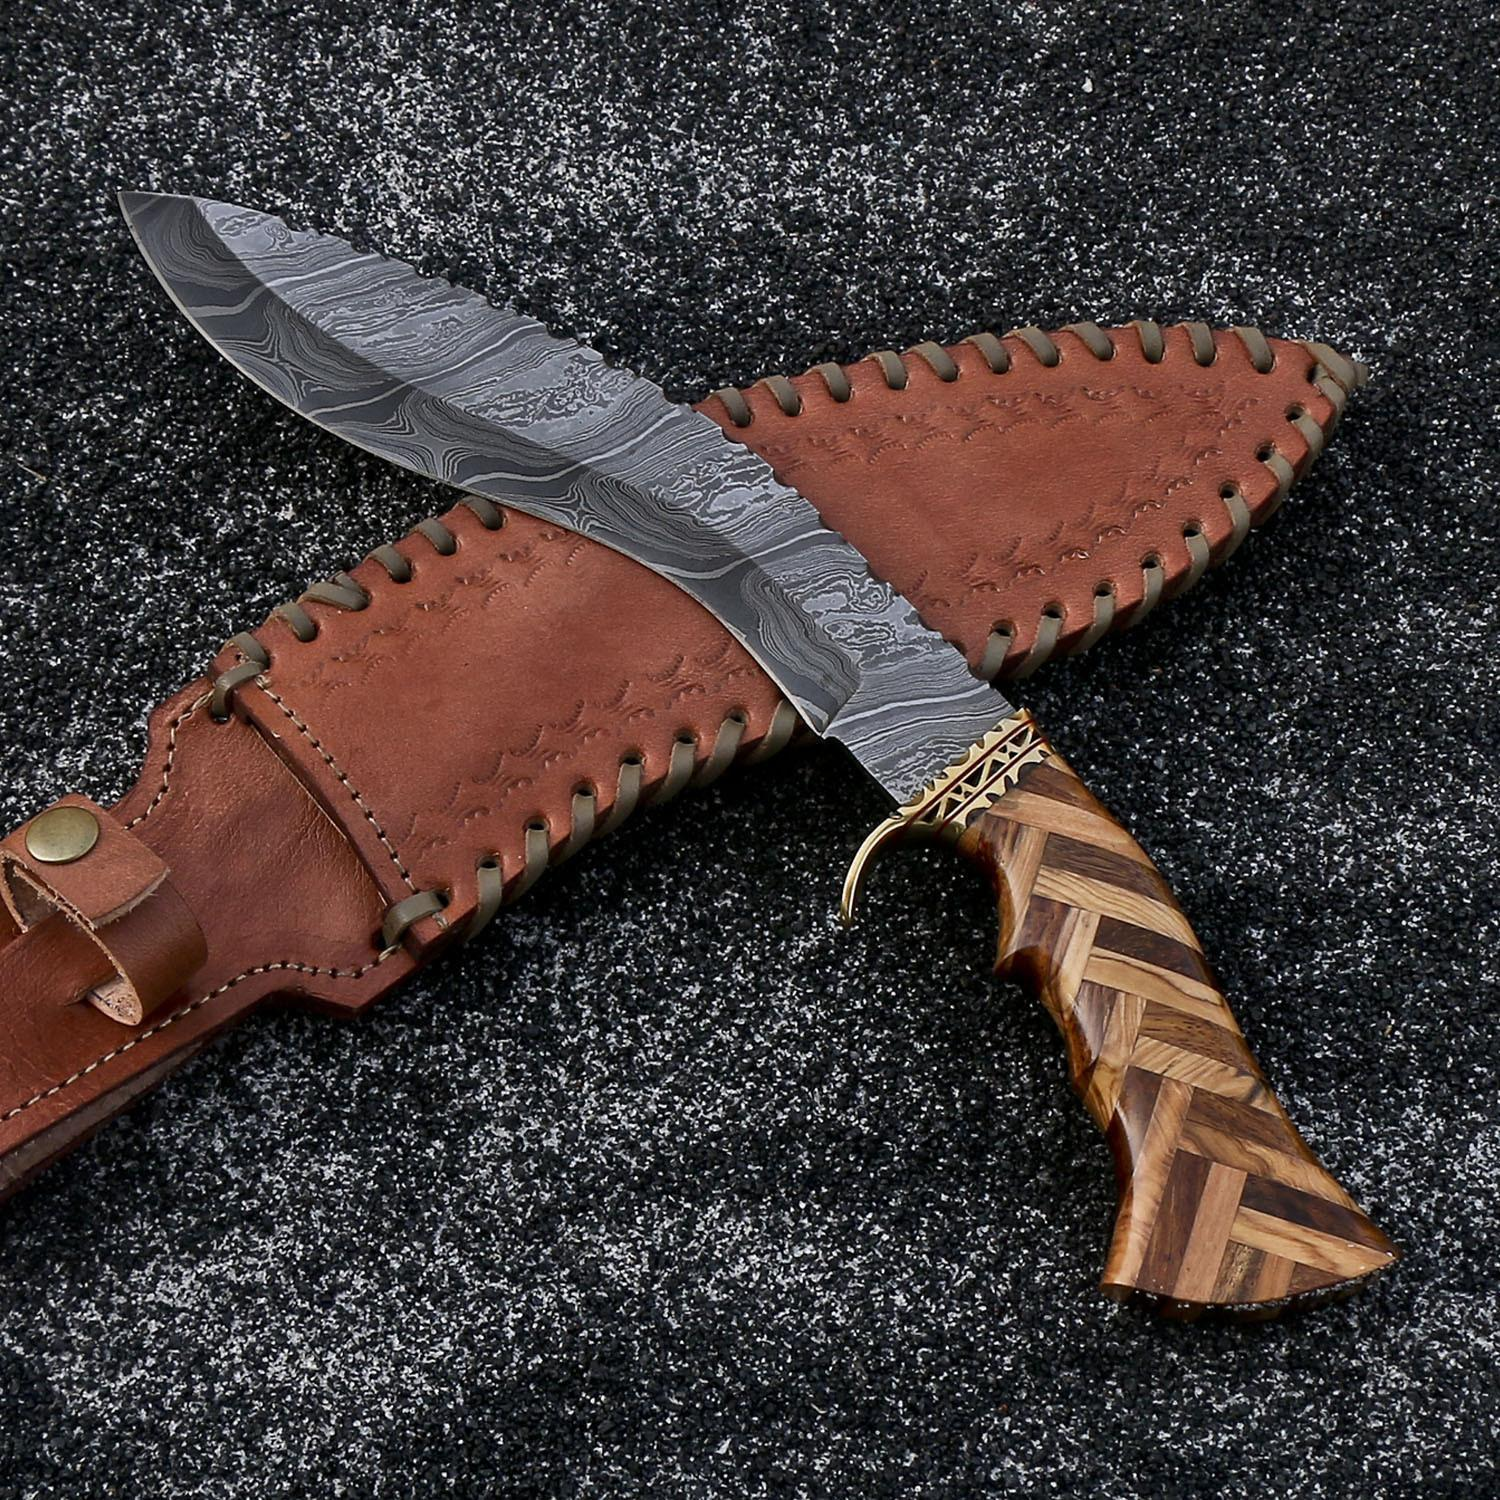facao: (122, 117, 1444, 1375)
